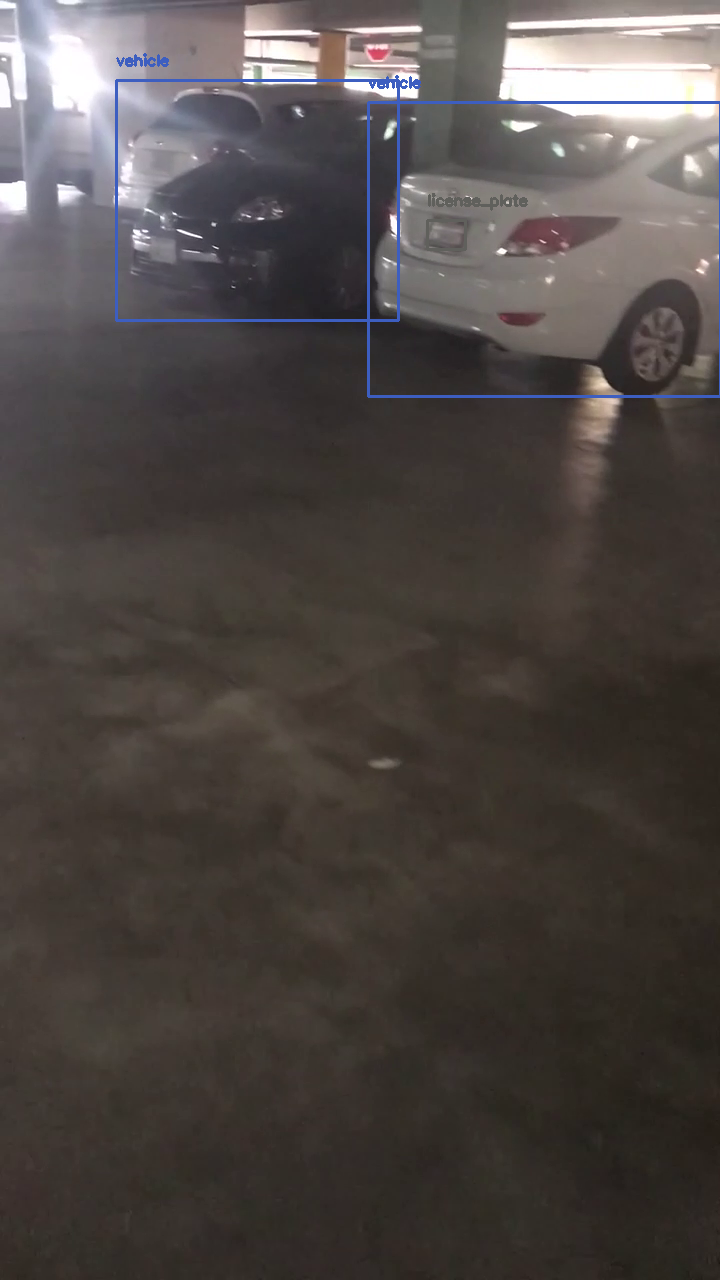license_plate: (427, 220, 465, 249)
vehicle: (368, 102, 720, 396), (116, 80, 398, 320)
